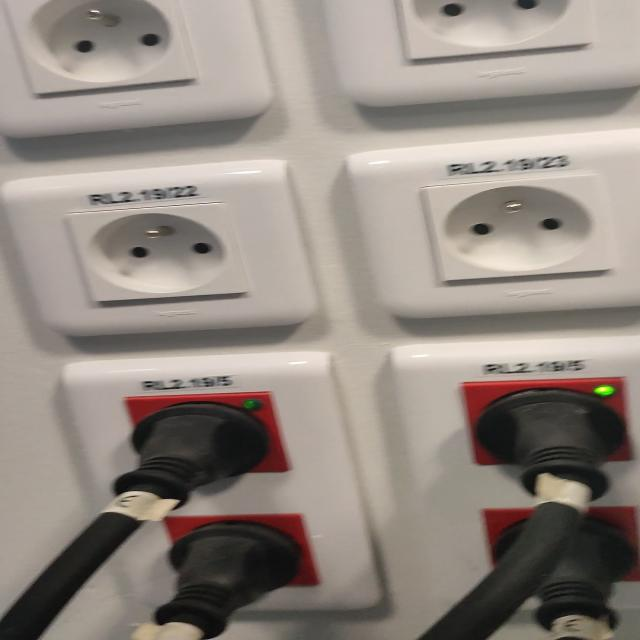house plug: (425, 172, 618, 282), (4, 0, 199, 94), (70, 202, 249, 302), (401, 0, 591, 60)
